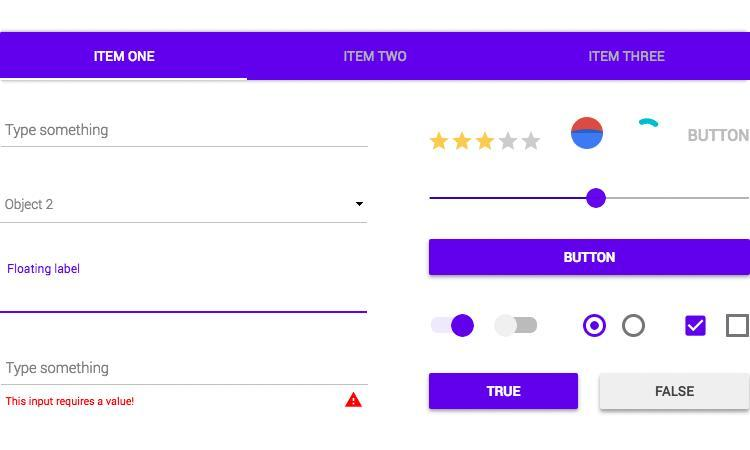button: (428, 238, 750, 279), (600, 371, 750, 414), (428, 373, 582, 412)
checkbox: (725, 313, 750, 340), (686, 315, 710, 338), (684, 316, 709, 338)
icon: (346, 390, 365, 409)
label: (6, 259, 84, 281)
radio: (622, 313, 648, 339), (584, 314, 609, 339)
slider: (429, 184, 750, 211)
switch: (431, 313, 477, 340), (495, 313, 540, 338)
